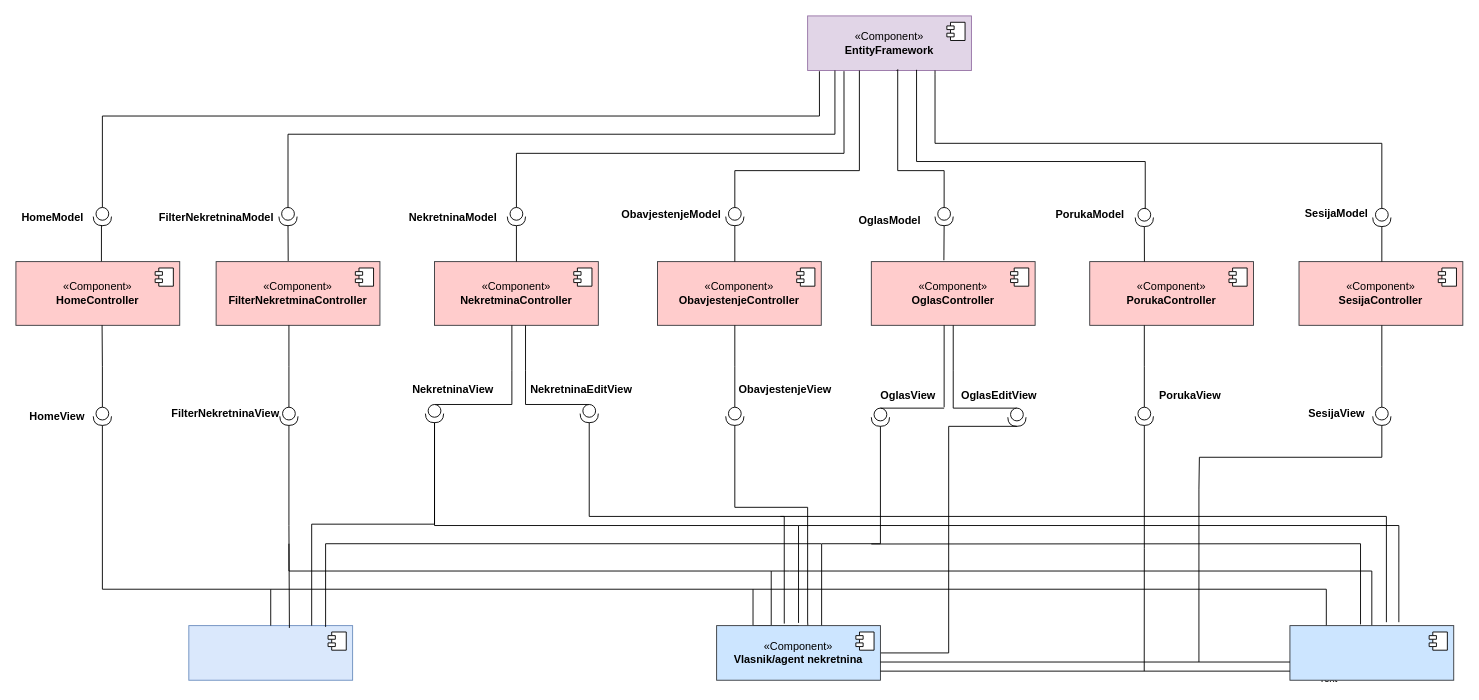
The diagram is 1479 pixels wide and 700 high, and some of its shapes have lost their labels. Here are the shapes that lost their labels. From the top down, the centre of each, then its label:
point 270,652: «Component» Gost
point 1371,652: «Component» RegistrovaniKorisnik
